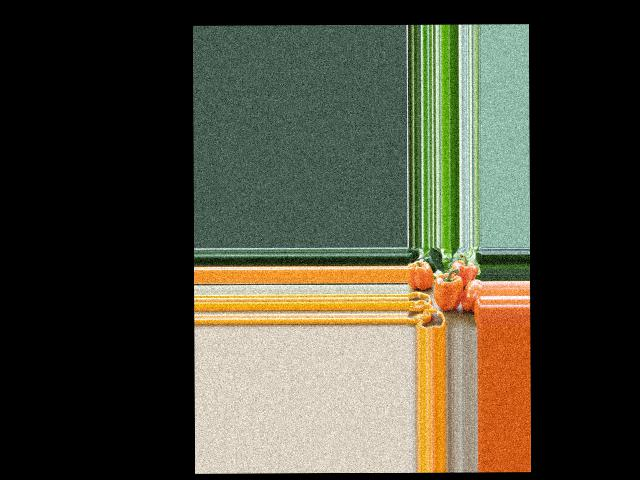bell_pepper: (461, 278, 481, 313)
